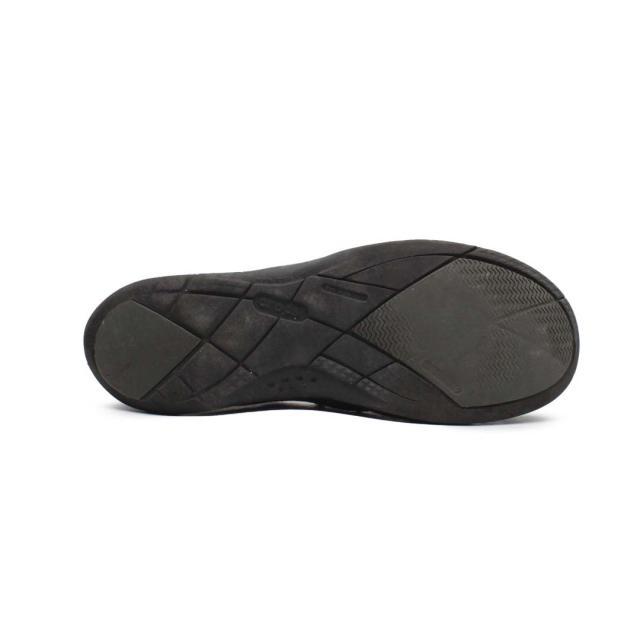outersole: (85, 240, 577, 430)
